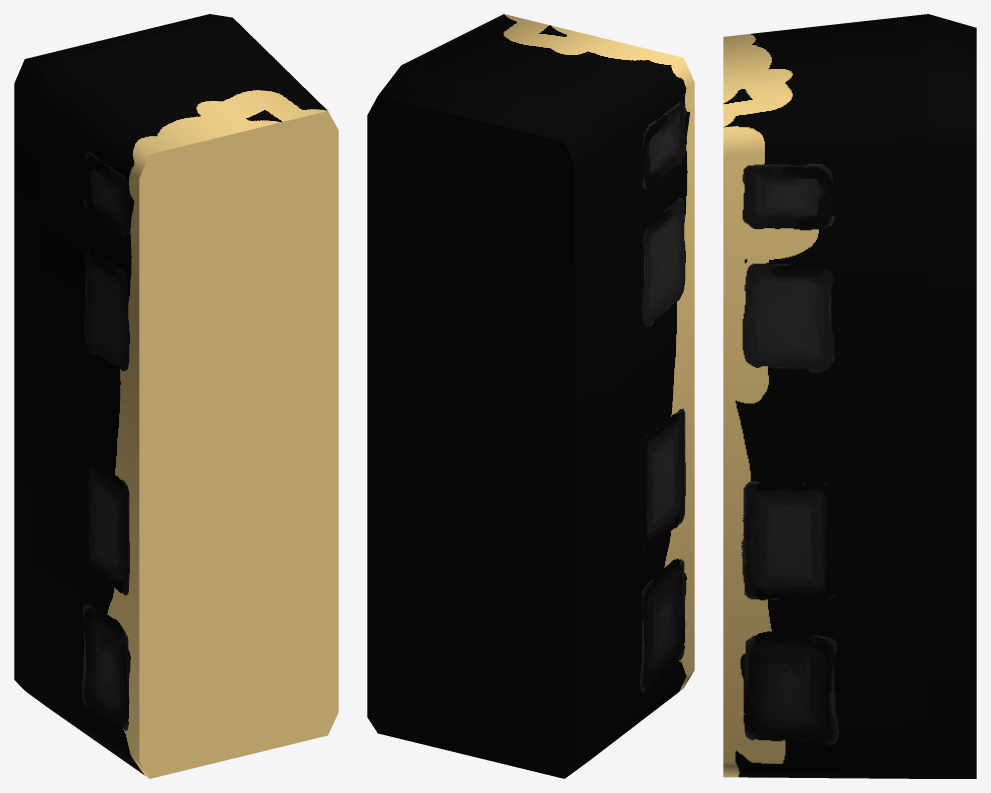
Rendered from train_cab.glb.
3 views of the same model, side by side, from view 1: azimuth 30°, elevation 25°; view 2: azimuth 150°, elevation 25°; view 3: azimuth 270°, elevation 25° (orthographic). The views are drawn at different scales.
Visible parts, largest first — view 1: train_cab; view 2: train_cab; view 3: train_cab.
Boxes of the visible parts, box(x1,y1,x2,y2) form: train_cab: box(14, 14, 338, 778); train_cab: box(367, 14, 694, 778); train_cab: box(723, 14, 976, 778).
Size of the model in its own units: 2.58 by 7.71 by 2.64.
Materials: 1 (1 with a texture image).
